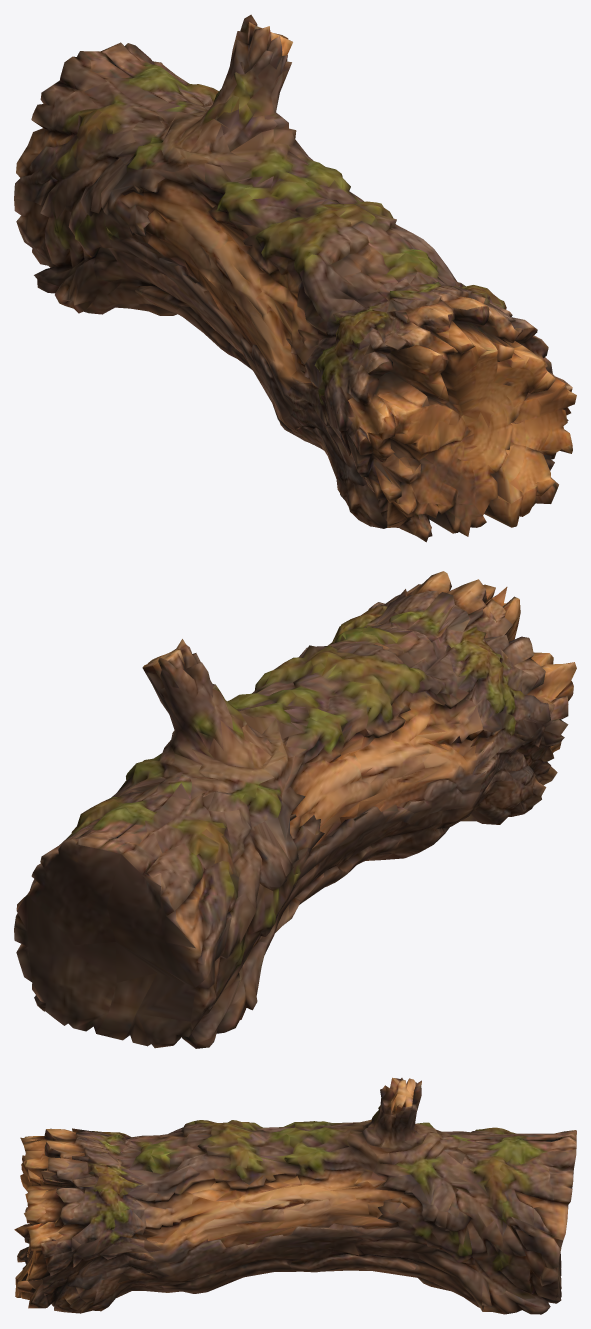
Rendered from log-02.glb.
3 renders of one model, top to bottom at view 1: azimuth 30°, elevation 25°; view 2: azimuth 150°, elevation 25°; view 3: azimuth 270°, elevation 25°, orthographic. The views are drawn at different scales.
Visible parts, largest first — view 1: nebeljagd-tripo-log-02; view 2: nebeljagd-tripo-log-02; view 3: nebeljagd-tripo-log-02.
Part boxes in pixels (<box>): nebeljagd-tripo-log-02: <box>14,14,576,542</box>; nebeljagd-tripo-log-02: <box>14,571,576,1048</box>; nebeljagd-tripo-log-02: <box>14,1077,576,1314</box>.
Bounding box in the file's own units: 0.96 × 1.32 × 3.
Materials: 1 (1 with a texture image).
